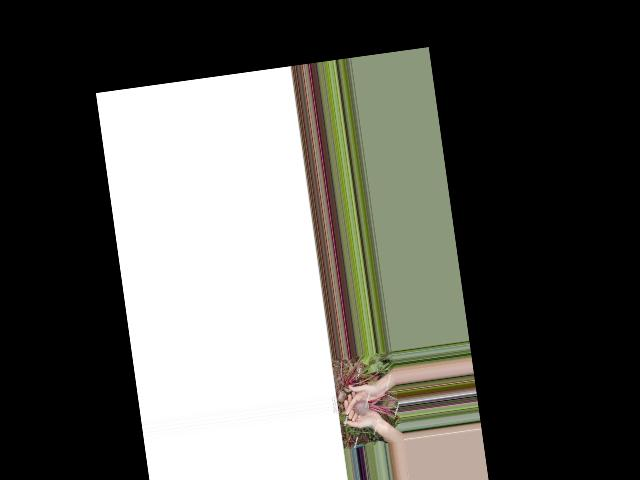beet: (350, 391, 399, 425)
